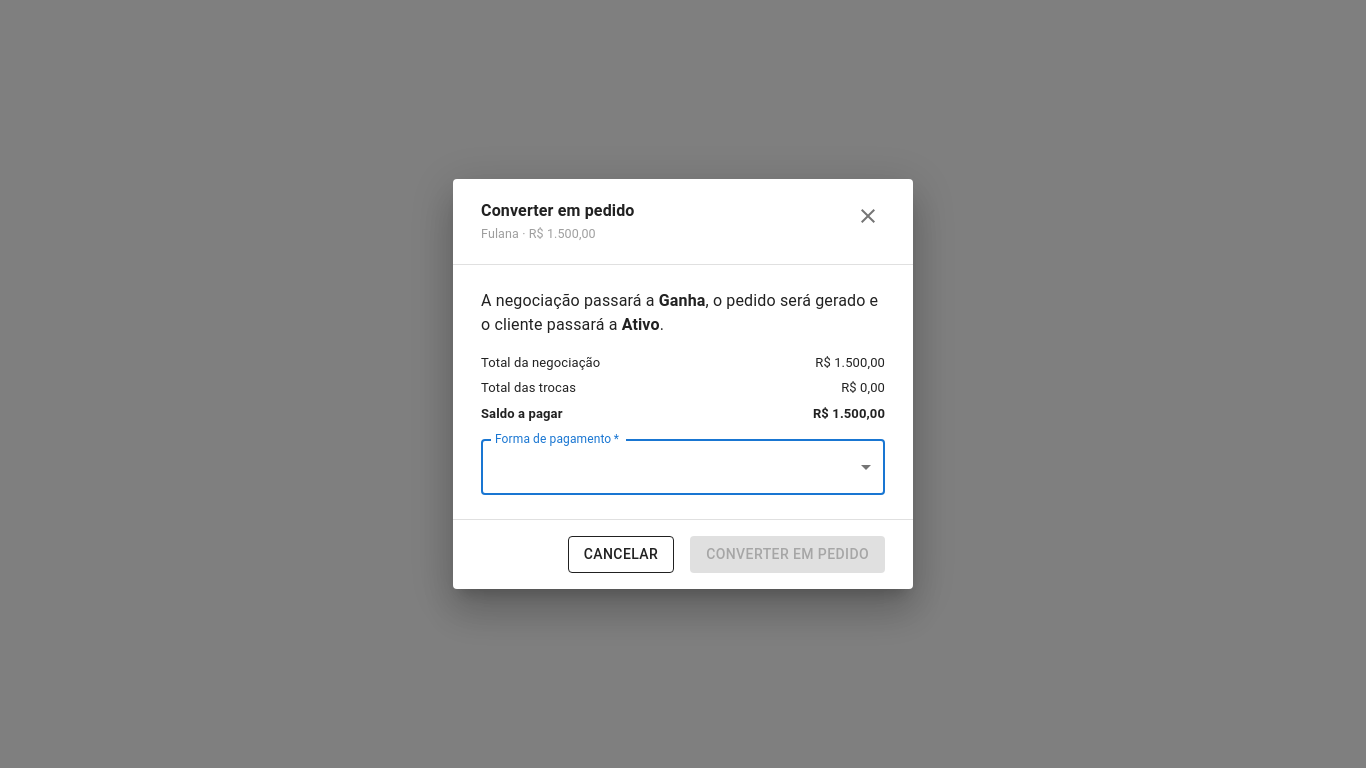
Test: ConvertToOrderModal › mostra a recusa do backend (Produto excluído) sem fechar o diálogo
Step 1. Click the dropdown named "Forma de pagamento" → (683, 467), box [481,439,885,495]
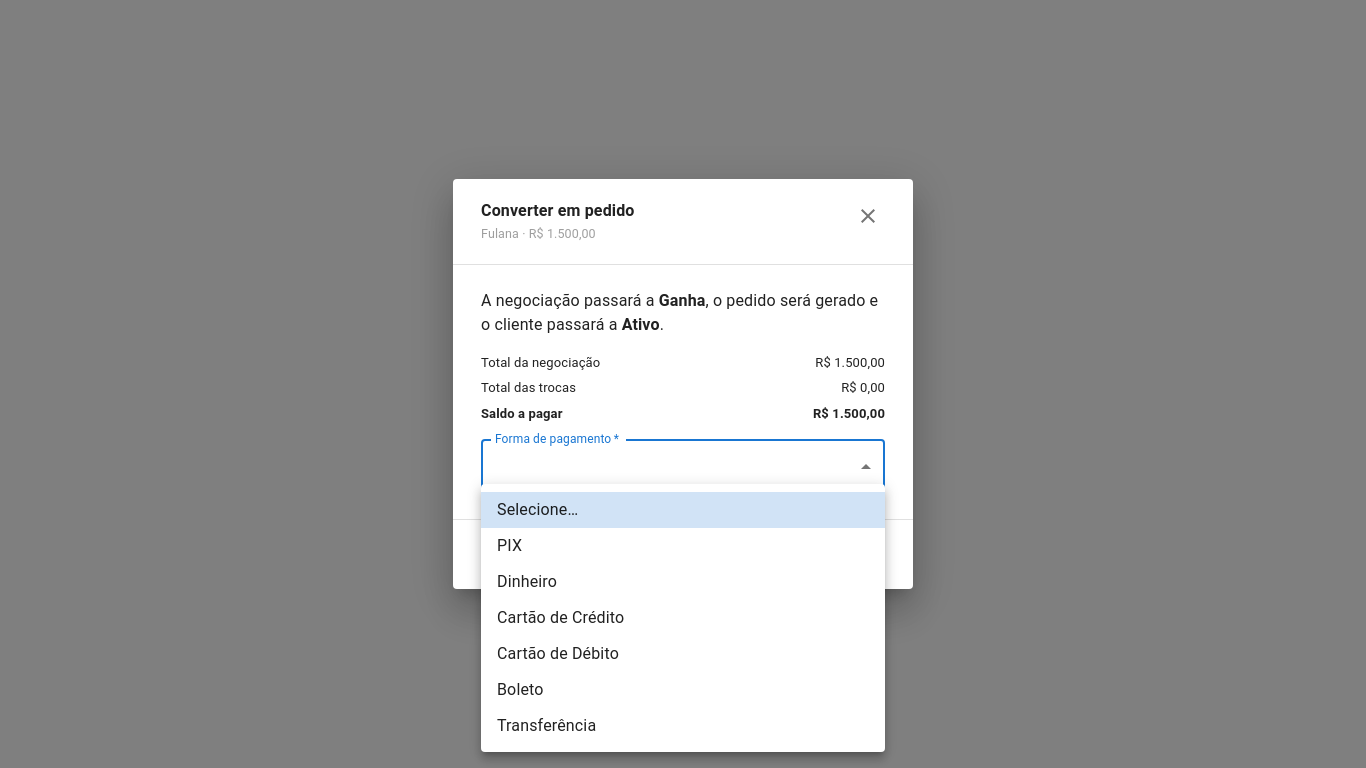
Step 2. Click the option "PIX" → (510, 546), box [497,536,522,555]
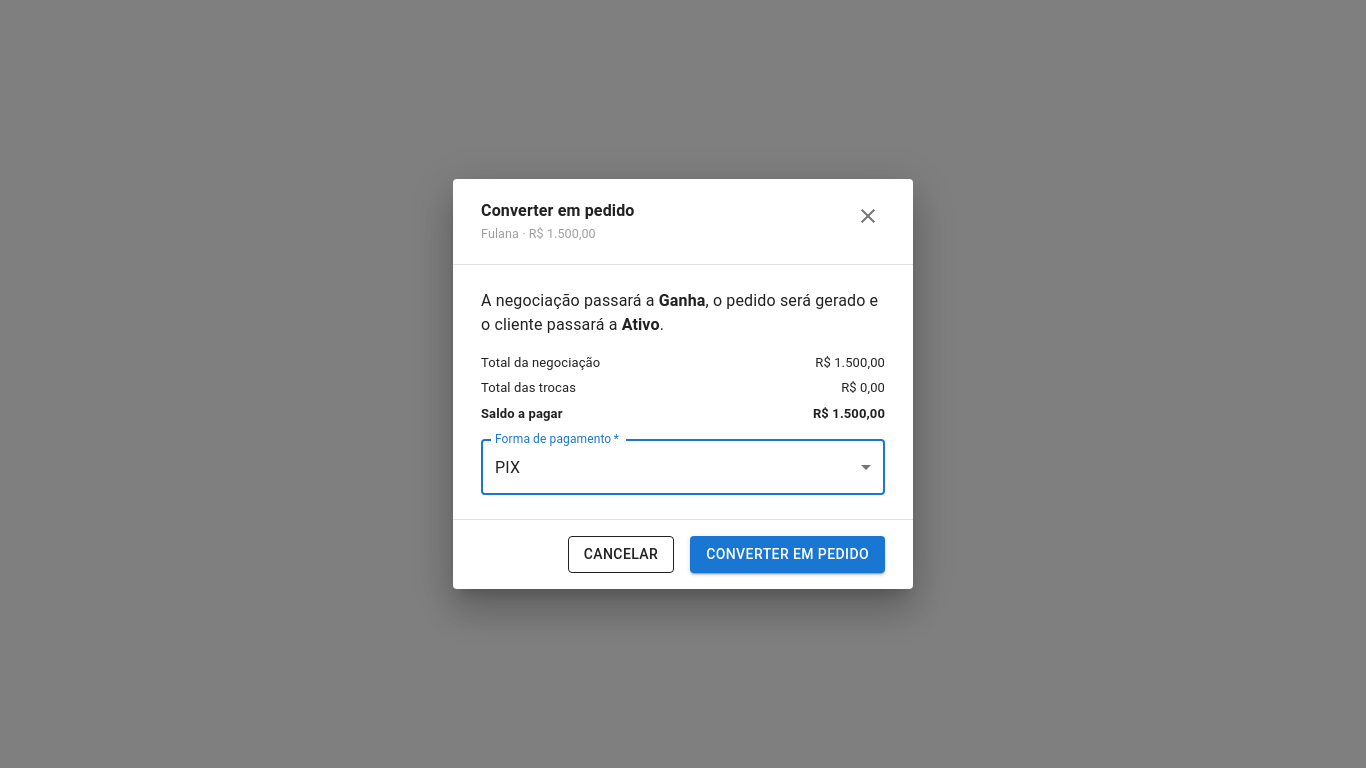
Step 3. Click the button "Converter em pedido" → (788, 555), box [690,536,885,573]
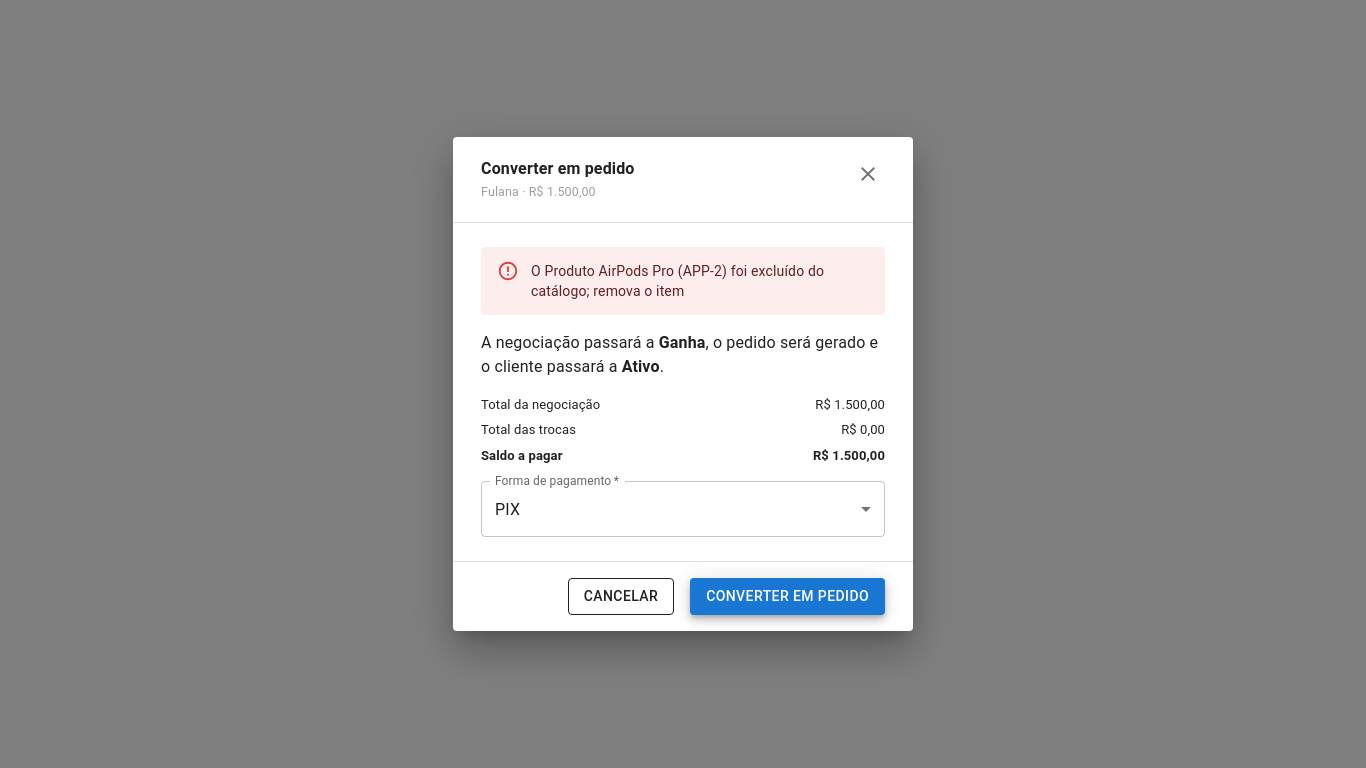
Result: the button "Converter em pedido" is enabled at [690,578,885,615]
Result: the message reads "O Produto AirPods Pro (APP-2) foi excluído do catálogo; remova o item" at [531,263,824,299]
